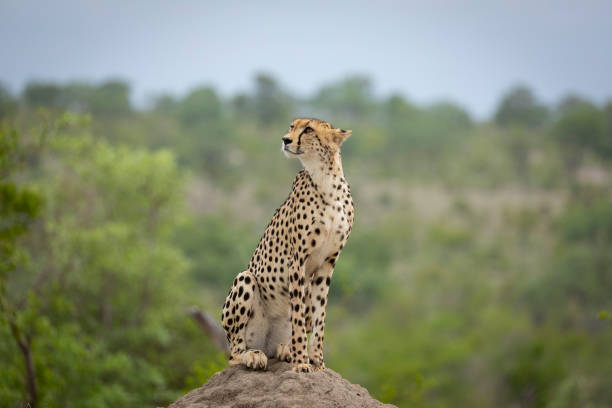cheetah: (274, 113, 352, 186)
